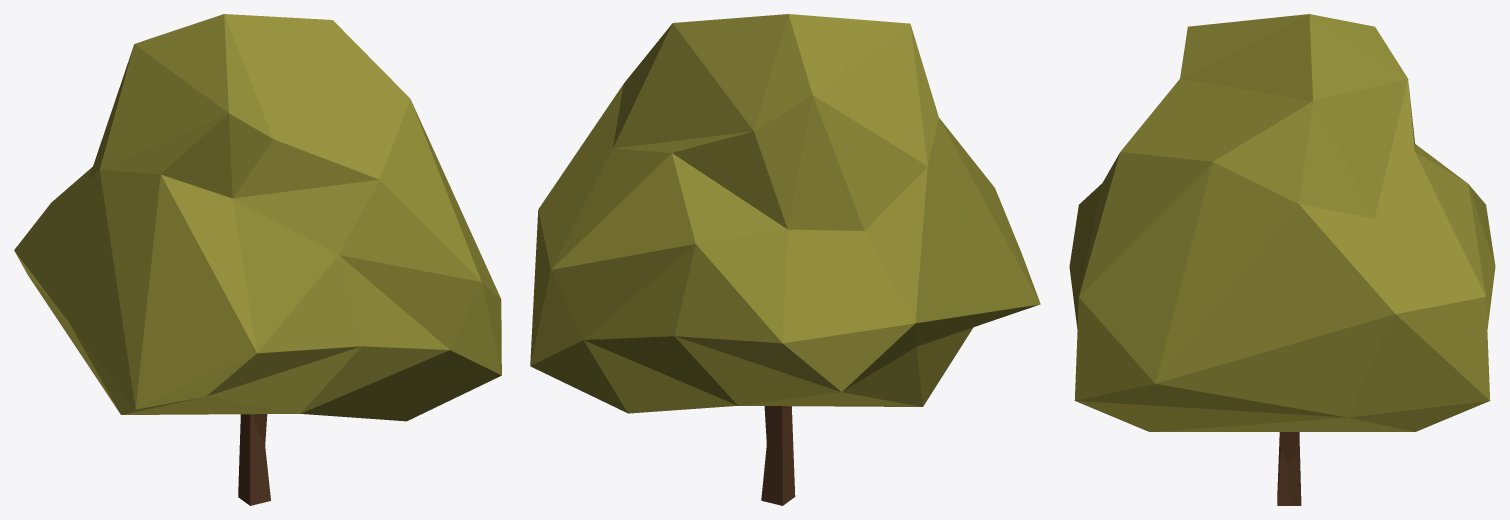
The model's file is Tree_19_Yellow.fbx.
3 views of the same model, side by side, from view 1: azimuth 30°, elevation 25°; view 2: azimuth 150°, elevation 25°; view 3: azimuth 270°, elevation 25° (orthographic). The views are drawn at different scales.
Visible parts, largest first — view 1: Tree_19_Yellow_Part_1, Tree_19_Yellow_Part_2; view 2: Tree_19_Yellow_Part_1, Tree_19_Yellow_Part_2; view 3: Tree_19_Yellow_Part_1, Tree_19_Yellow_Part_2.
Part boxes in pixels (bbox=[...]): Tree_19_Yellow_Part_1: bbox=[14, 14, 501, 421]; Tree_19_Yellow_Part_2: bbox=[238, 414, 270, 505]; Tree_19_Yellow_Part_1: bbox=[530, 14, 1040, 413]; Tree_19_Yellow_Part_2: bbox=[761, 406, 795, 505]; Tree_19_Yellow_Part_1: bbox=[1069, 14, 1495, 431]; Tree_19_Yellow_Part_2: bbox=[1277, 432, 1301, 505].
Bounding box in the file's own units: 641 × 800 × 647.
